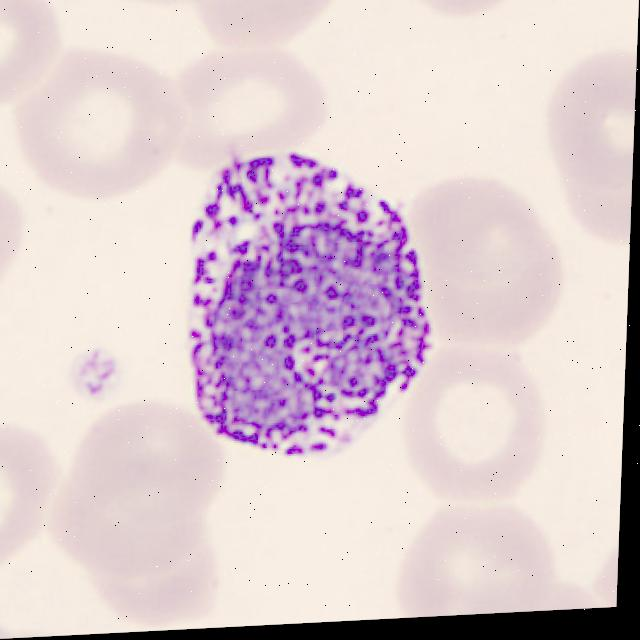basophil: (181, 106, 448, 482)
platelets: (54, 335, 131, 412)
rbc: (1, 46, 195, 207), (150, 51, 343, 186), (398, 353, 552, 515), (386, 500, 575, 619), (66, 407, 223, 534), (418, 223, 567, 347), (42, 479, 213, 584), (88, 530, 244, 630), (408, 185, 544, 296), (535, 44, 637, 188), (0, 426, 68, 594), (190, 0, 350, 55), (0, 0, 74, 113), (553, 167, 632, 267), (0, 176, 43, 319), (367, 0, 541, 24), (523, 570, 607, 611), (598, 527, 619, 608)
